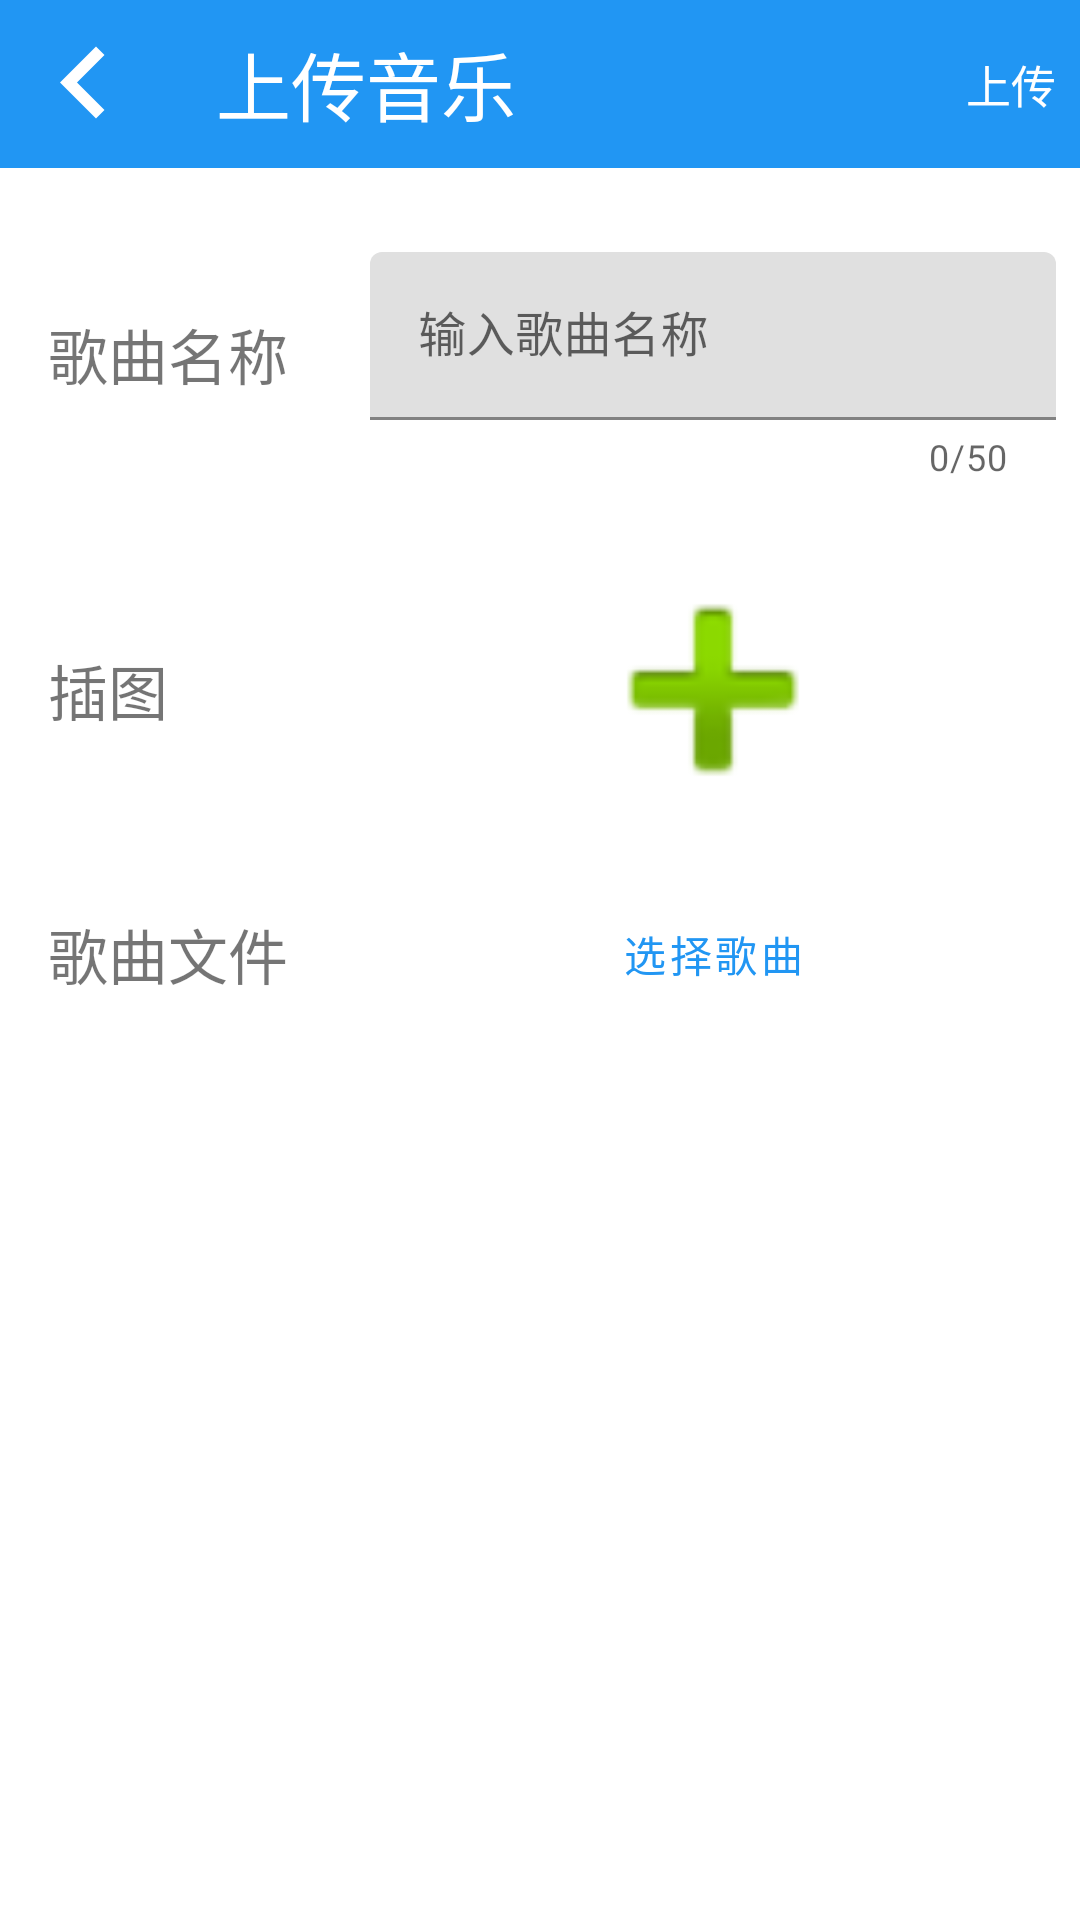

Icon bounding boxes for this 1080px x 1920px phone screenshot, format (x1, y1, x2, y2):
add: (627, 605, 799, 775)
